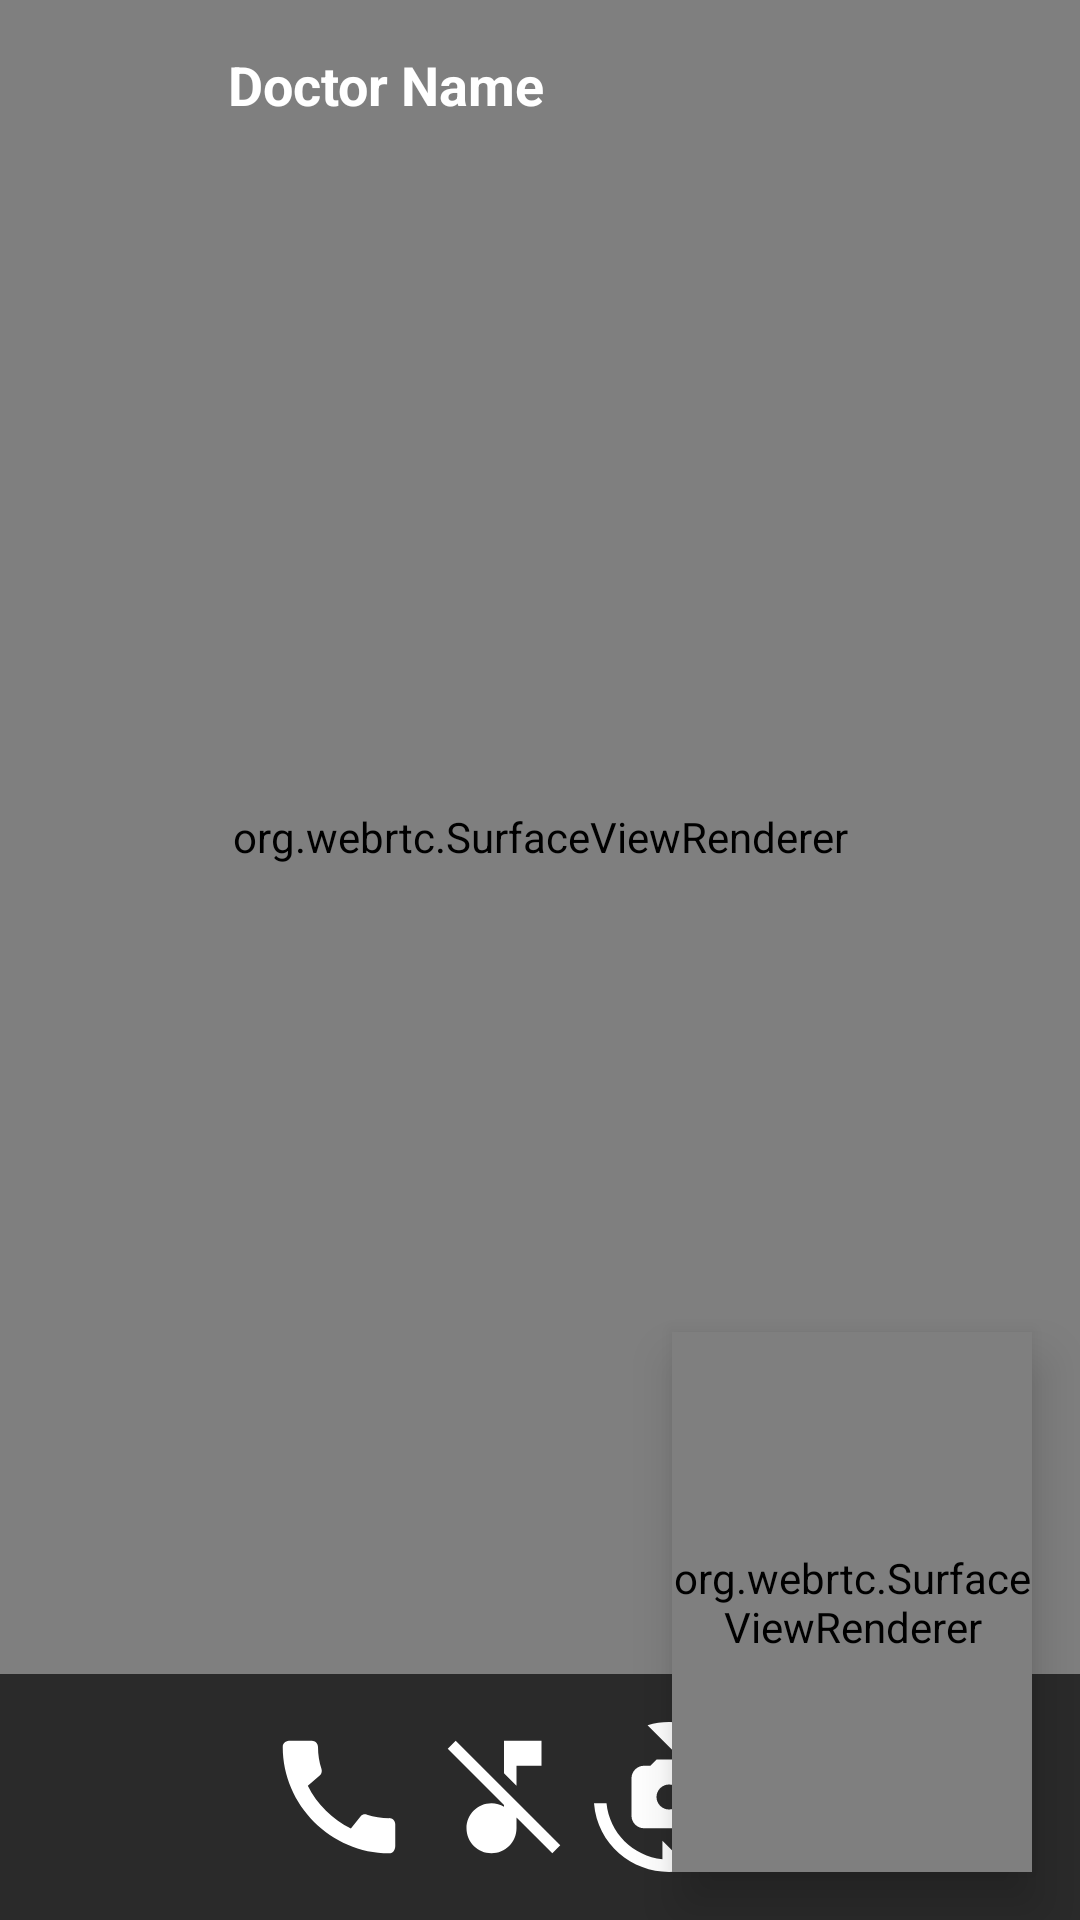

Named icons in this screenshot (1080w x 1920h) and their bounding boxes, (x1, y1, x2, y2):
call: (282, 1740, 396, 1854)
mute: (448, 1740, 560, 1854)
